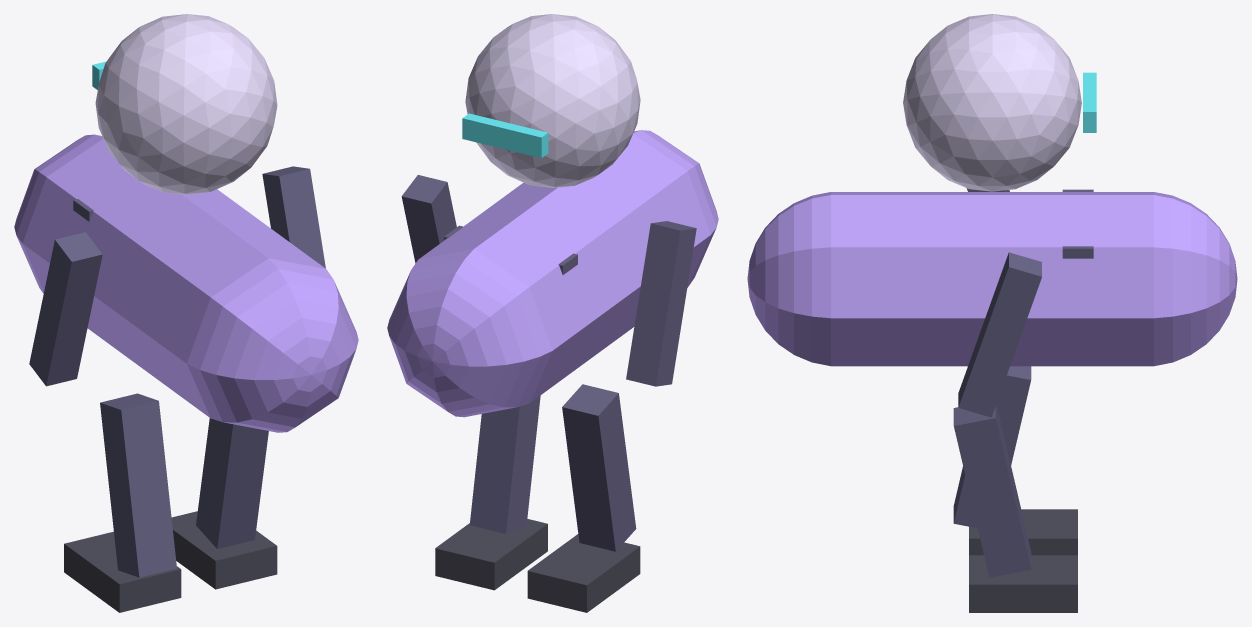
The model's file is character_runner_robot.glb.
3 views of the same model, side by side, from view 1: azimuth 30°, elevation 25°; view 2: azimuth 150°, elevation 25°; view 3: azimuth 270°, elevation 25° (orthographic). The views are drawn at different scales.
Visible parts, largest first — view 1: torso, head, leg_l, arm_l, leg_r, shoe_l, shoe_r, arm_r; view 2: torso, head, leg_l, arm_l, leg_r, shoe_l, shoe_r, arm_r, visor; view 3: torso, head, leg_r, arm_r, shoe_r, leg_l, shoe_l, visor.
Part boxes in pixels (x1,y1,x2,y2): torso: (14,134,358,432); head: (95,14,277,194); leg_l: (100,393,176,577); arm_l: (29,232,102,386); leg_r: (196,418,268,548); shoe_l: (64,531,181,612); shoe_r: (171,511,277,589); arm_r: (262,166,325,268); torso: (387,130,718,417); head: (465,14,640,187); leg_l: (562,384,636,551); arm_l: (626,221,696,386); leg_r: (469,395,540,533); shoe_l: (527,534,640,612); shoe_r: (435,519,547,590); arm_r: (401,175,456,263); visor: (462,113,548,158); torso: (747,192,1237,366); head: (903,14,1081,191); leg_r: (953,404,1031,577); arm_r: (958,252,1041,417); shoe_r: (969,555,1077,612); leg_l: (953,366,1031,528); shoe_l: (969,509,1077,555); visor: (1083,72,1096,132).
Size of the model in its own units: 0.77 by 1.57 by 1.26.
